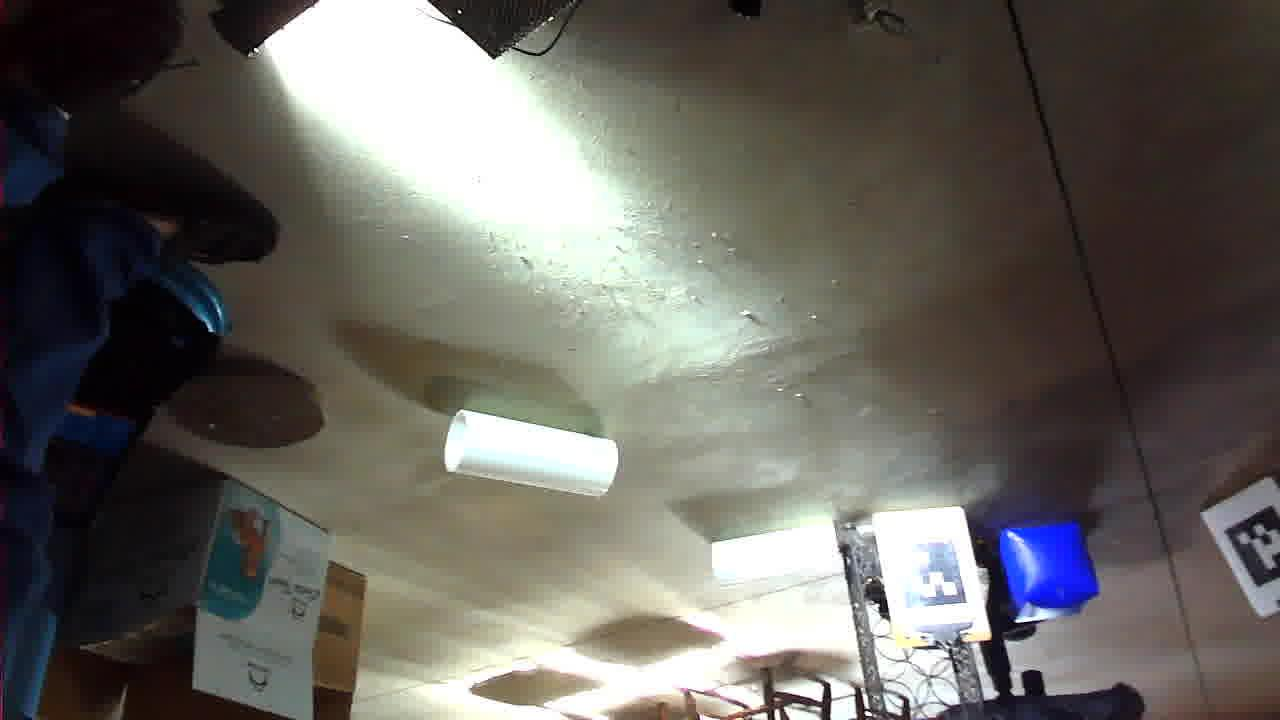coral: (662, 224, 836, 311), (445, 138, 568, 196)
